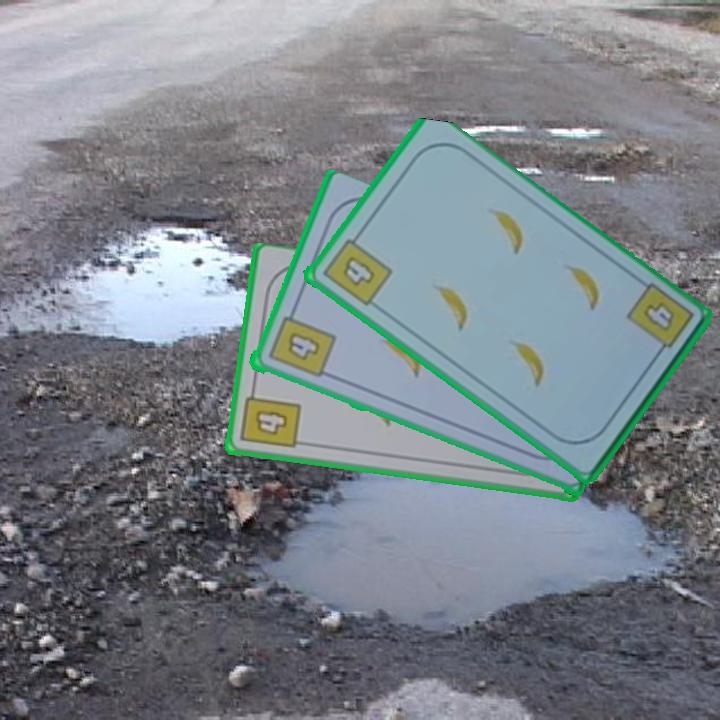4b: (622, 279, 697, 362), (317, 229, 394, 309), (264, 305, 338, 381), (237, 383, 304, 452)
